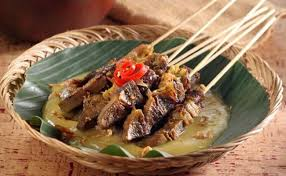sate: (51, 36, 245, 155)
